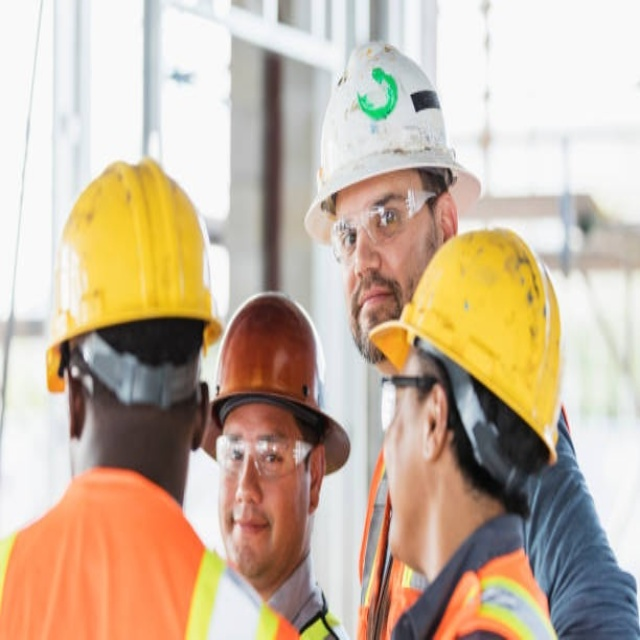Gafas: (332, 184, 441, 264), (213, 428, 312, 479), (378, 371, 441, 432)
Sin_mascara: (384, 451, 421, 553), (350, 271, 402, 336), (225, 502, 269, 567)
